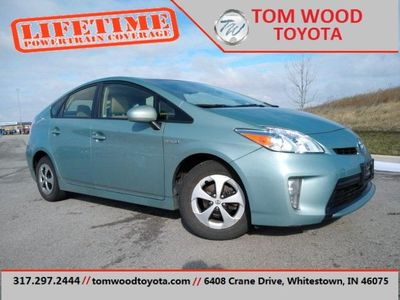Toyota Prius: (27, 77, 375, 241)
